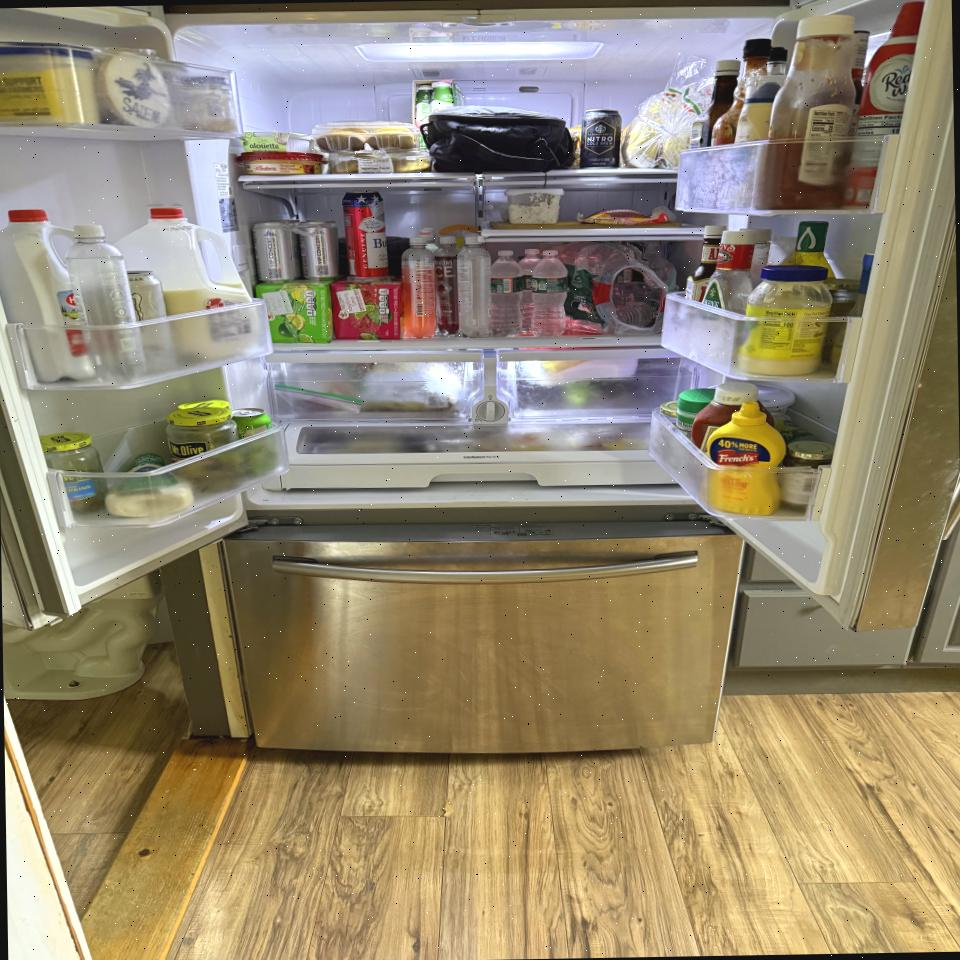Leche: (147, 207, 264, 366), (0, 205, 102, 382)
